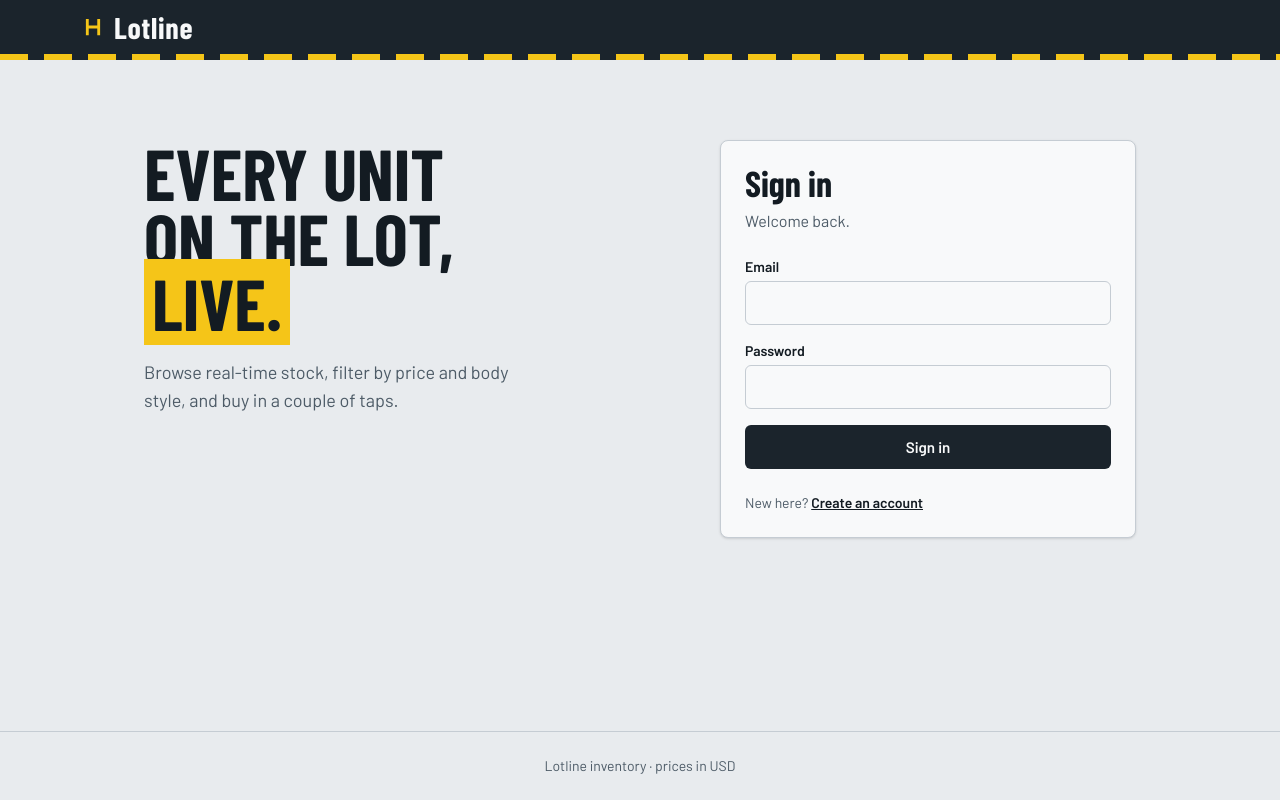
authentication screens › shows the server error for wrong credentials and stays on the page
Type "a@example.com" into the field labelled "Email" at (928, 303), box [745, 281, 1111, 325]
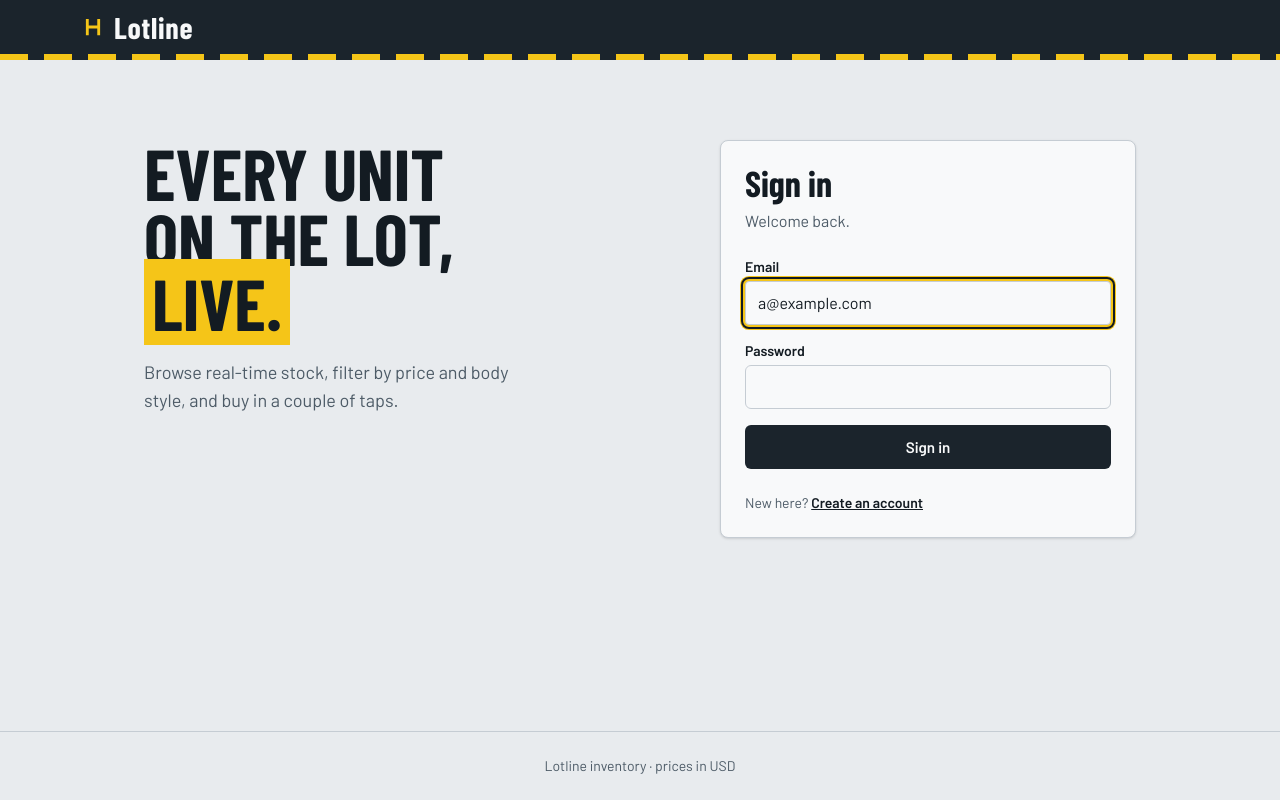
Type "wrong-password" into the password field labelled "Password" at (928, 387), box [745, 365, 1111, 409]
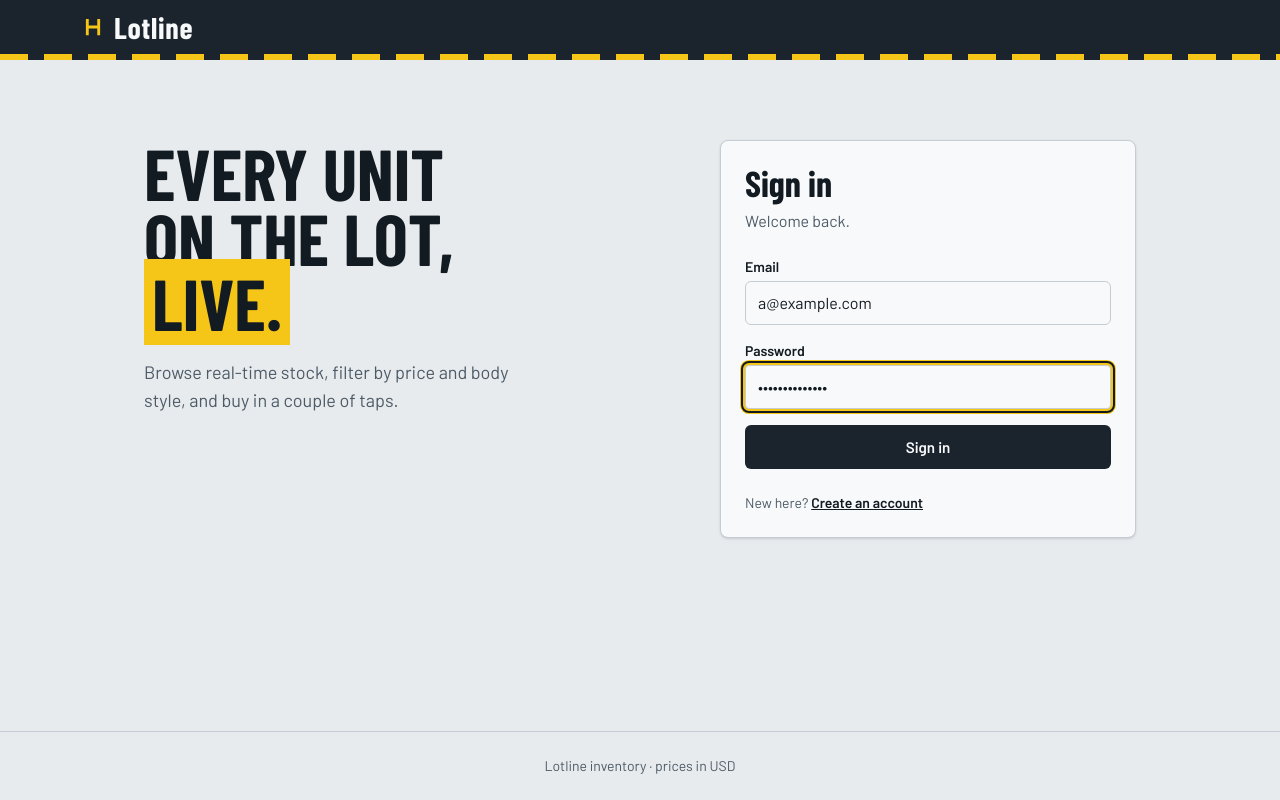
Click the button "Sign in" at (928, 447), box [745, 425, 1111, 469]
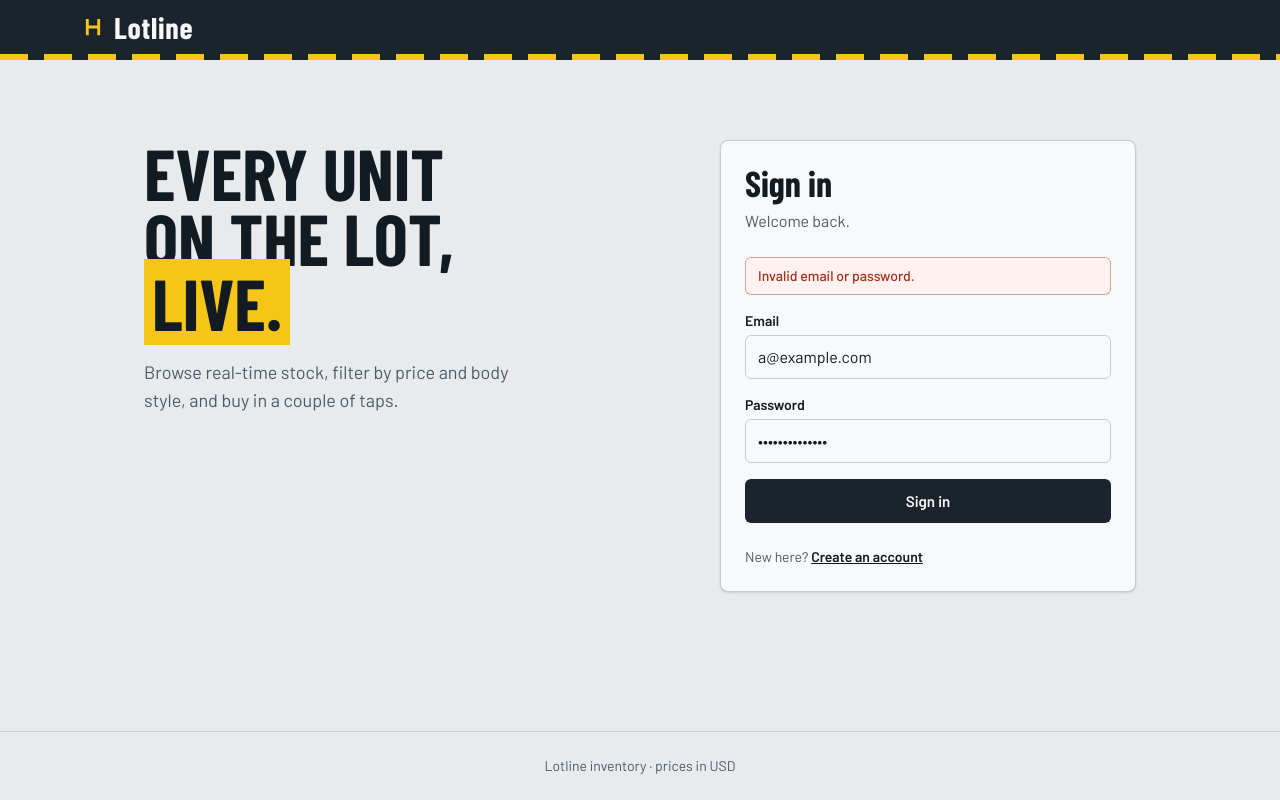
Check: the heading "Sign in" is shown, box [745, 161, 832, 204]
Check: the message reads "Invalid email or password.", box [758, 267, 915, 284]
